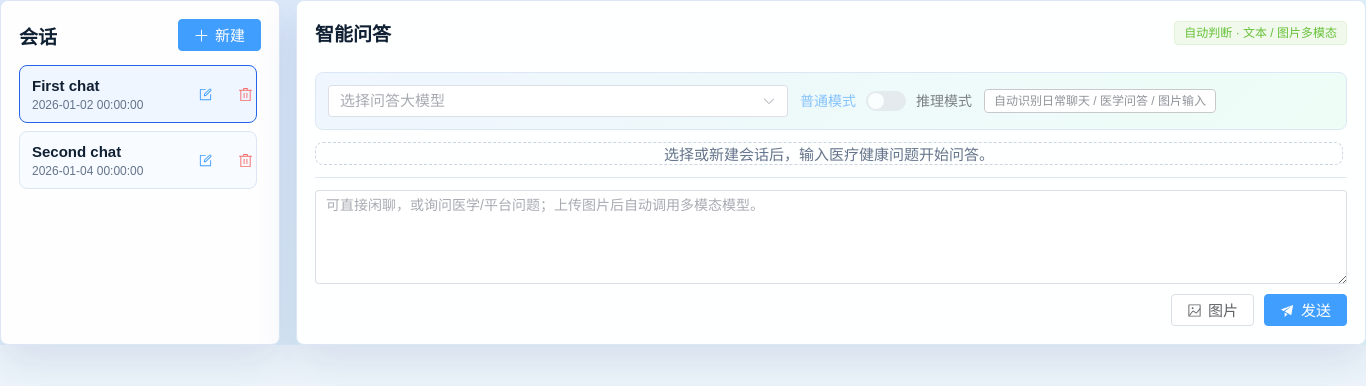
Test: KnowledgeChat › deletes a conversation and selects the next one
The width and height of the screenshot is (1366, 386).
Check: the number of elements with class "conversation-card" is 2, box [19, 65, 257, 123]; [19, 131, 257, 189]
Click the 1st button with class "conversation-delete": (245, 94) [222, 78, 268, 110]
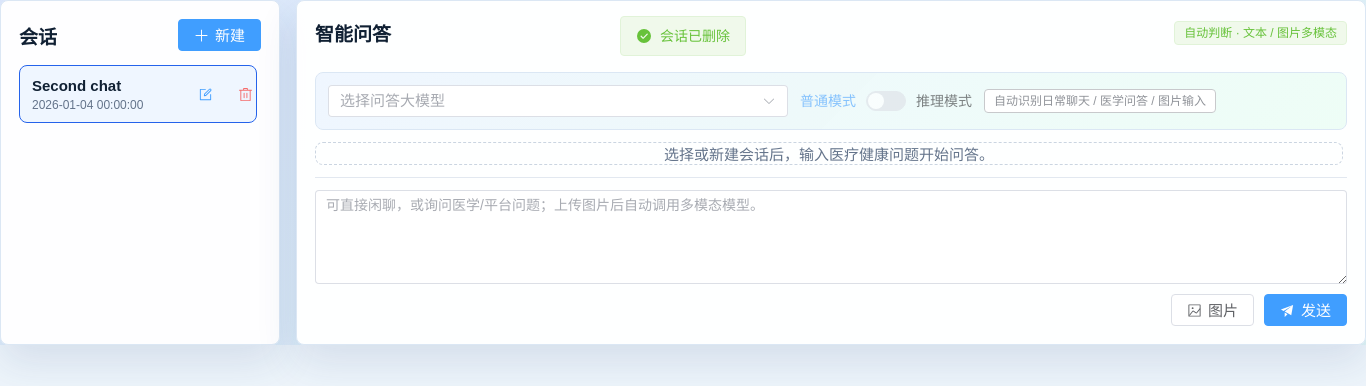
Check: the text "Second chat" is shown, box [32, 76, 121, 94]
Check: the number of elements with class "conversation-card" is 1, box [19, 65, 257, 123]
Check: the text "First chat" is gone
